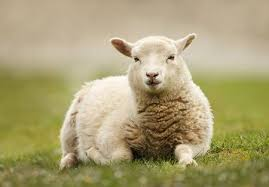koyun: (53, 31, 213, 172)
